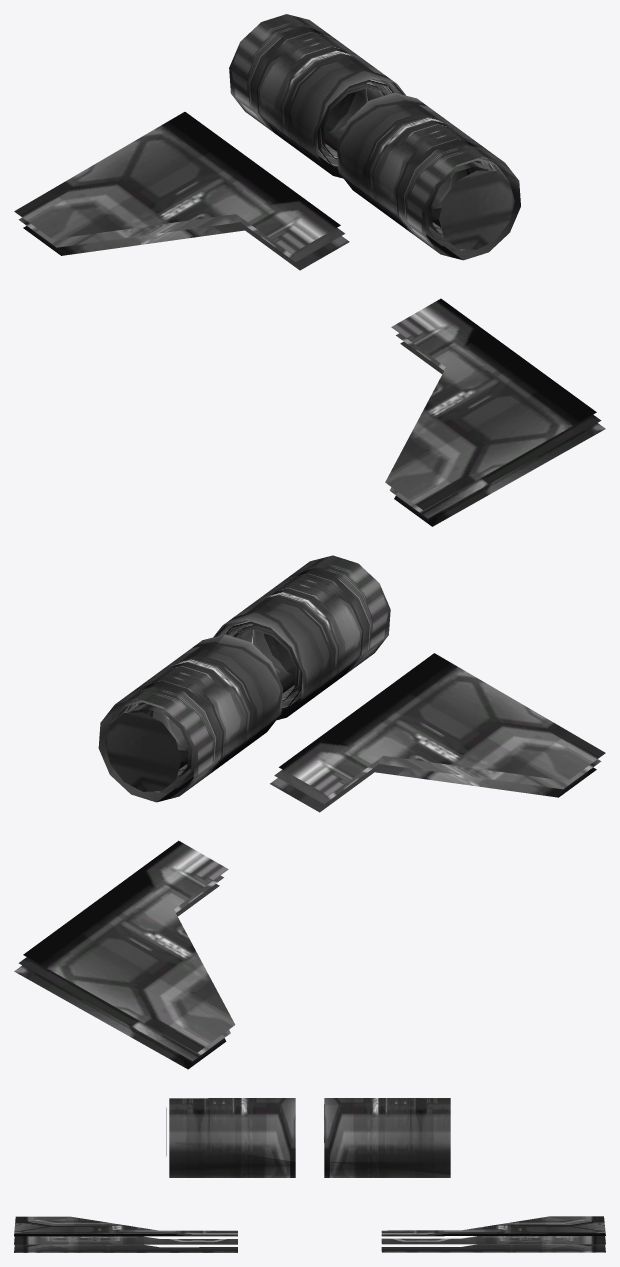
The model's file is KeeperConsole_Hologram2.FBX.
The picture shows the model from 3 angles, top to bottom: view 1: azimuth 30°, elevation 25°; view 2: azimuth 150°, elevation 25°; view 3: azimuth 270°, elevation 25°; orthographic projection. The views are drawn at different scales.
Parts seen in each view (by area): view 1: KeeperConsole_Hologram2; view 2: KeeperConsole_Hologram2; view 3: KeeperConsole_Hologram2.
Boxes of the visible parts, x1,y1,x2,y2 form: KeeperConsole_Hologram2: [14, 14, 605, 526]; KeeperConsole_Hologram2: [14, 555, 605, 1069]; KeeperConsole_Hologram2: [14, 1098, 605, 1252].
Size of the model in its own units: 0.4597 by 0.543 by 1.6.
